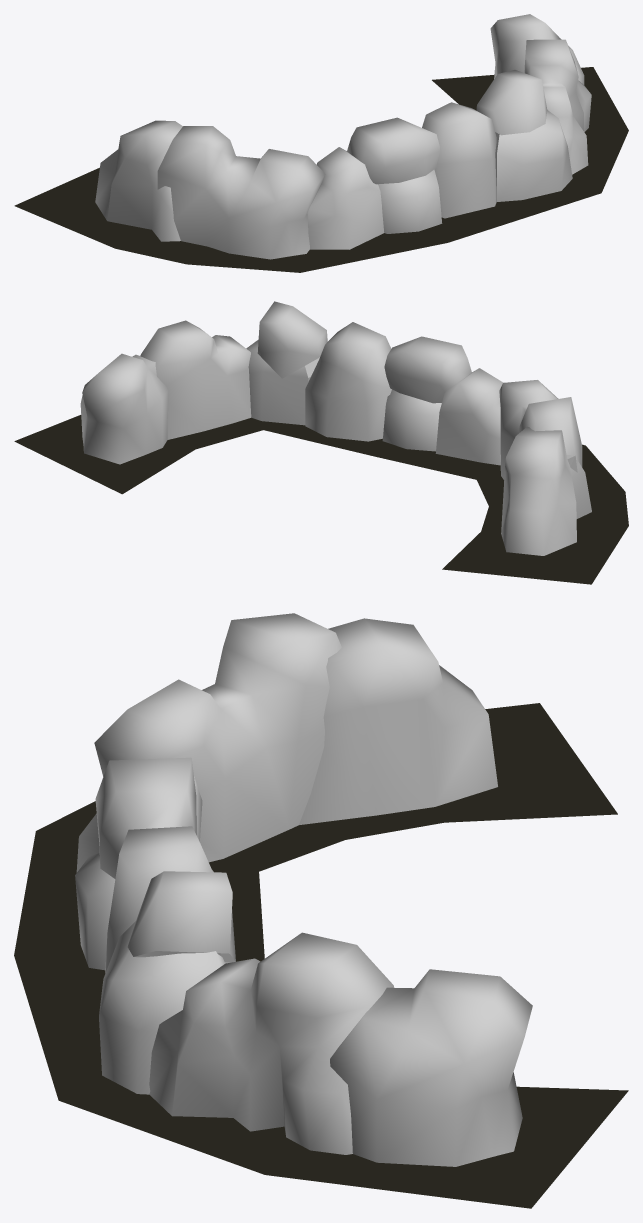
File: Bunker_01.FBX
3 renders of one model, top to bottom at view 1: azimuth 30°, elevation 25°; view 2: azimuth 150°, elevation 25°; view 3: azimuth 270°, elevation 25°, orthographic. The views are drawn at different scales.
Parts seen in each view (by area): view 1: Object008, Object009; view 2: Object008, Object009; view 3: Object008, Object009.
Boxes of the visible parts, <box> form: Object008: <box>95,14,591,259</box>; Object009: <box>14,67,628,272</box>; Object008: <box>80,301,591,555</box>; Object009: <box>14,415,628,584</box>; Object008: <box>75,613,532,1166</box>; Object009: <box>14,703,628,1208</box>.
Size of the model in its own units: 712 by 121 by 366.
